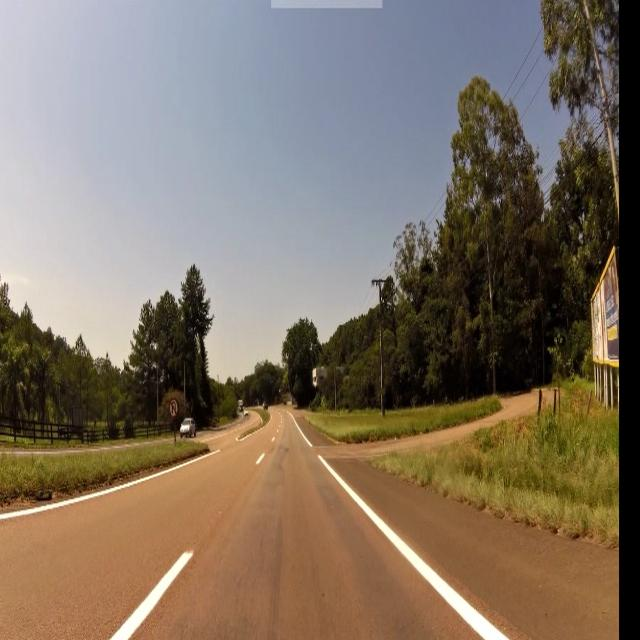R-5a: (170, 396, 180, 421)
